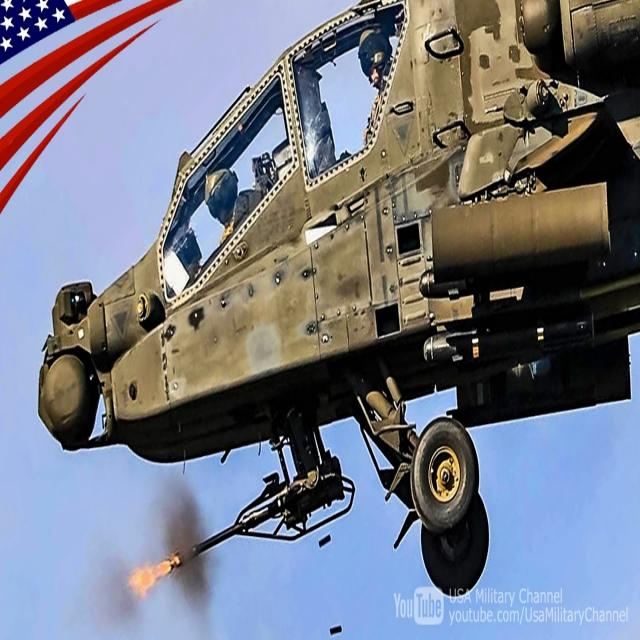Apache: (41, 4, 640, 600)
